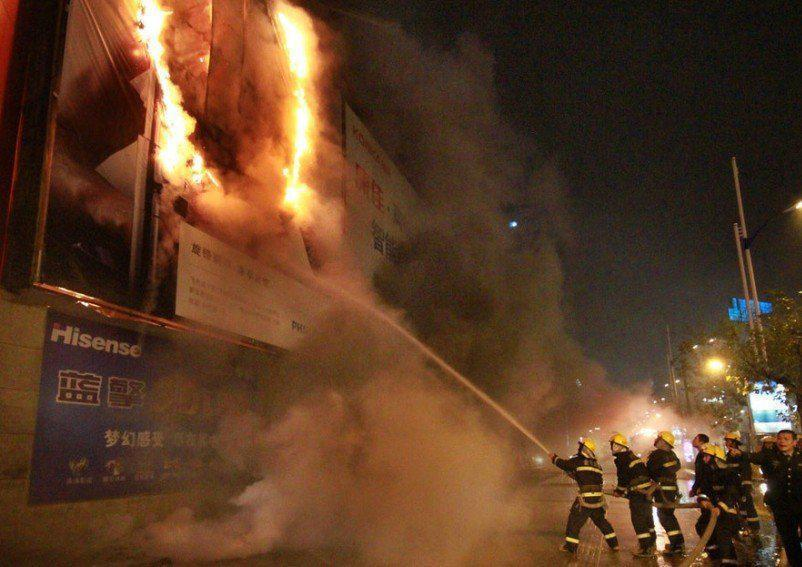fire: (118, 0, 221, 195), (261, 2, 344, 242)
